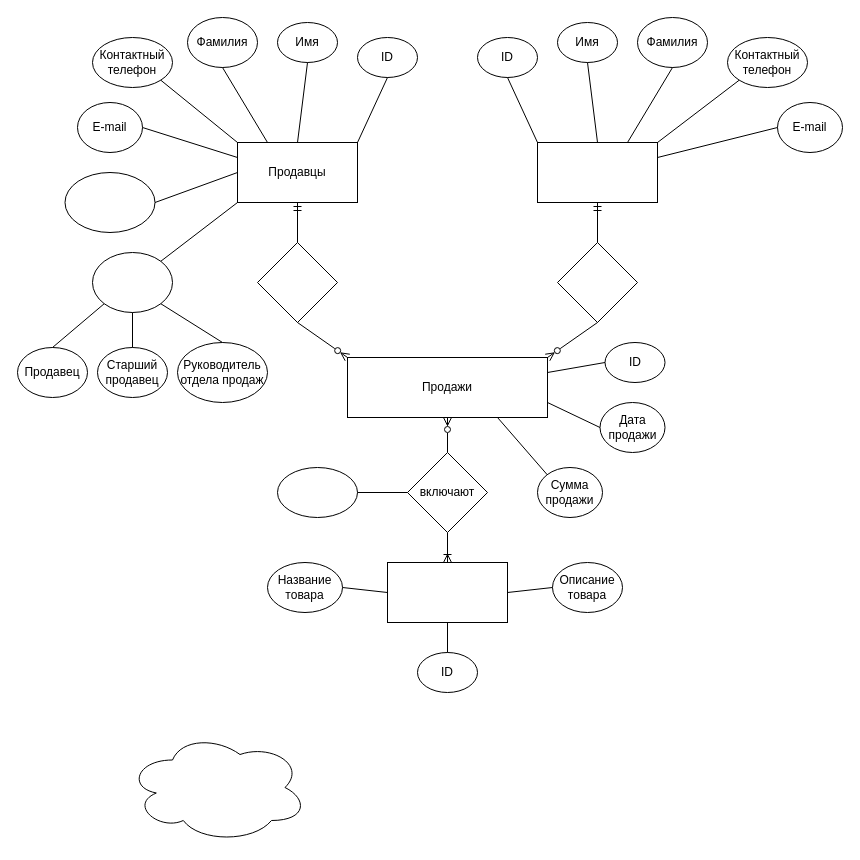
Some shapes in this 860 by 860 pixel diagram are drawn without their labels. Each missing label, with the centre of its shape:
Дата приёма на работу: the point at 109,202
Количество: the point at 317,492
оформляют: the point at 297,282
Позиция в фирме: the point at 132,282
Покупатели: the point at 597,172
покупают: the point at 597,282
Получился некий лев: the point at 217,787
Товары: the point at 447,592
